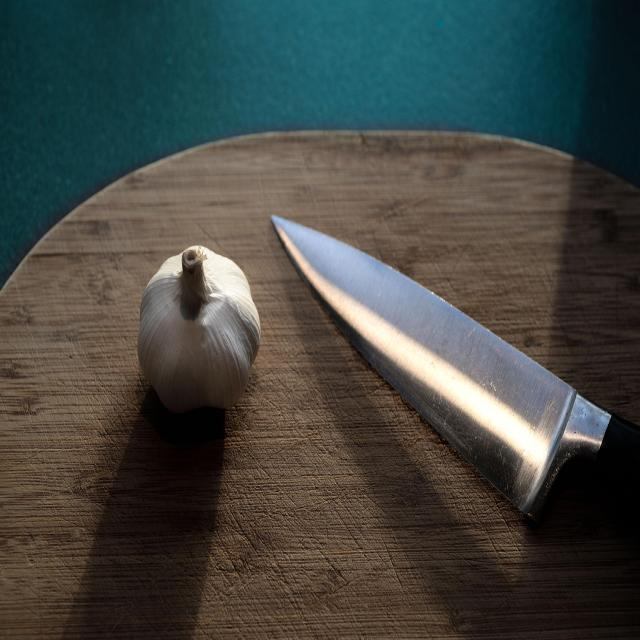Knife: (272, 216, 640, 520)
